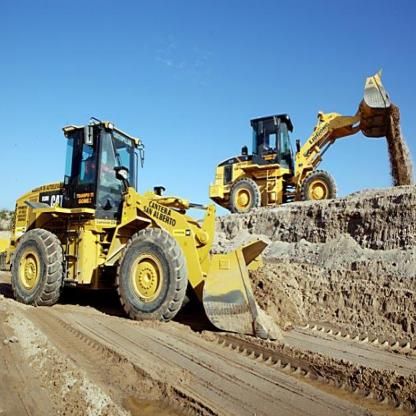bull_dozer/loader/grader: (7, 105, 288, 354), (201, 64, 404, 226)
